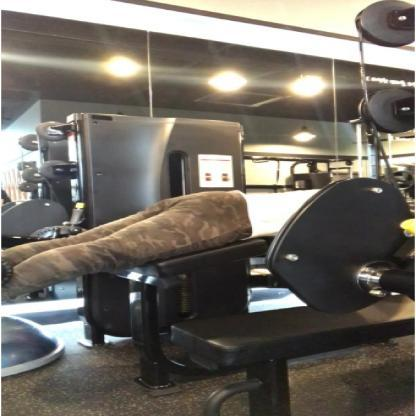reg curl machine: (3, 107, 416, 387)
